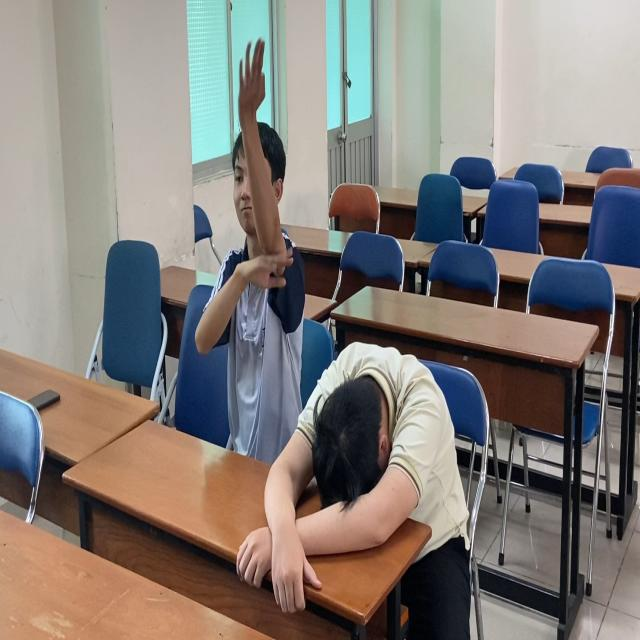raise_hand: (197, 7, 294, 480)
sleep: (236, 318, 479, 611)
